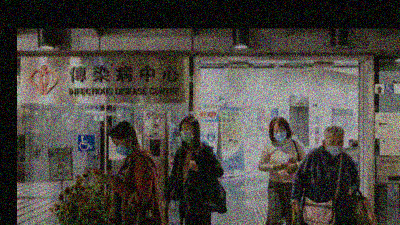with_mask: (326, 136, 343, 158), (178, 123, 195, 143), (111, 139, 127, 156), (272, 126, 286, 142)
